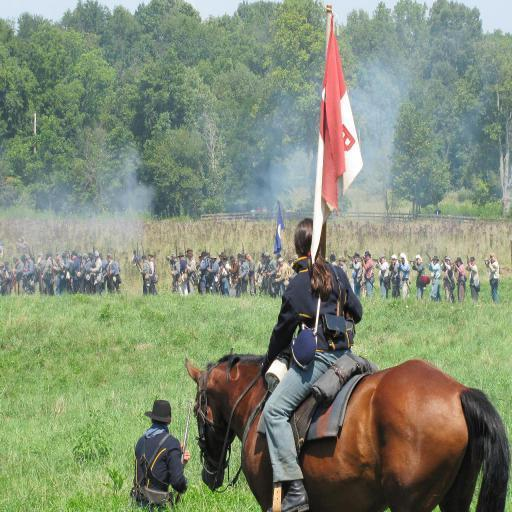horse: (184, 344, 512, 512)
